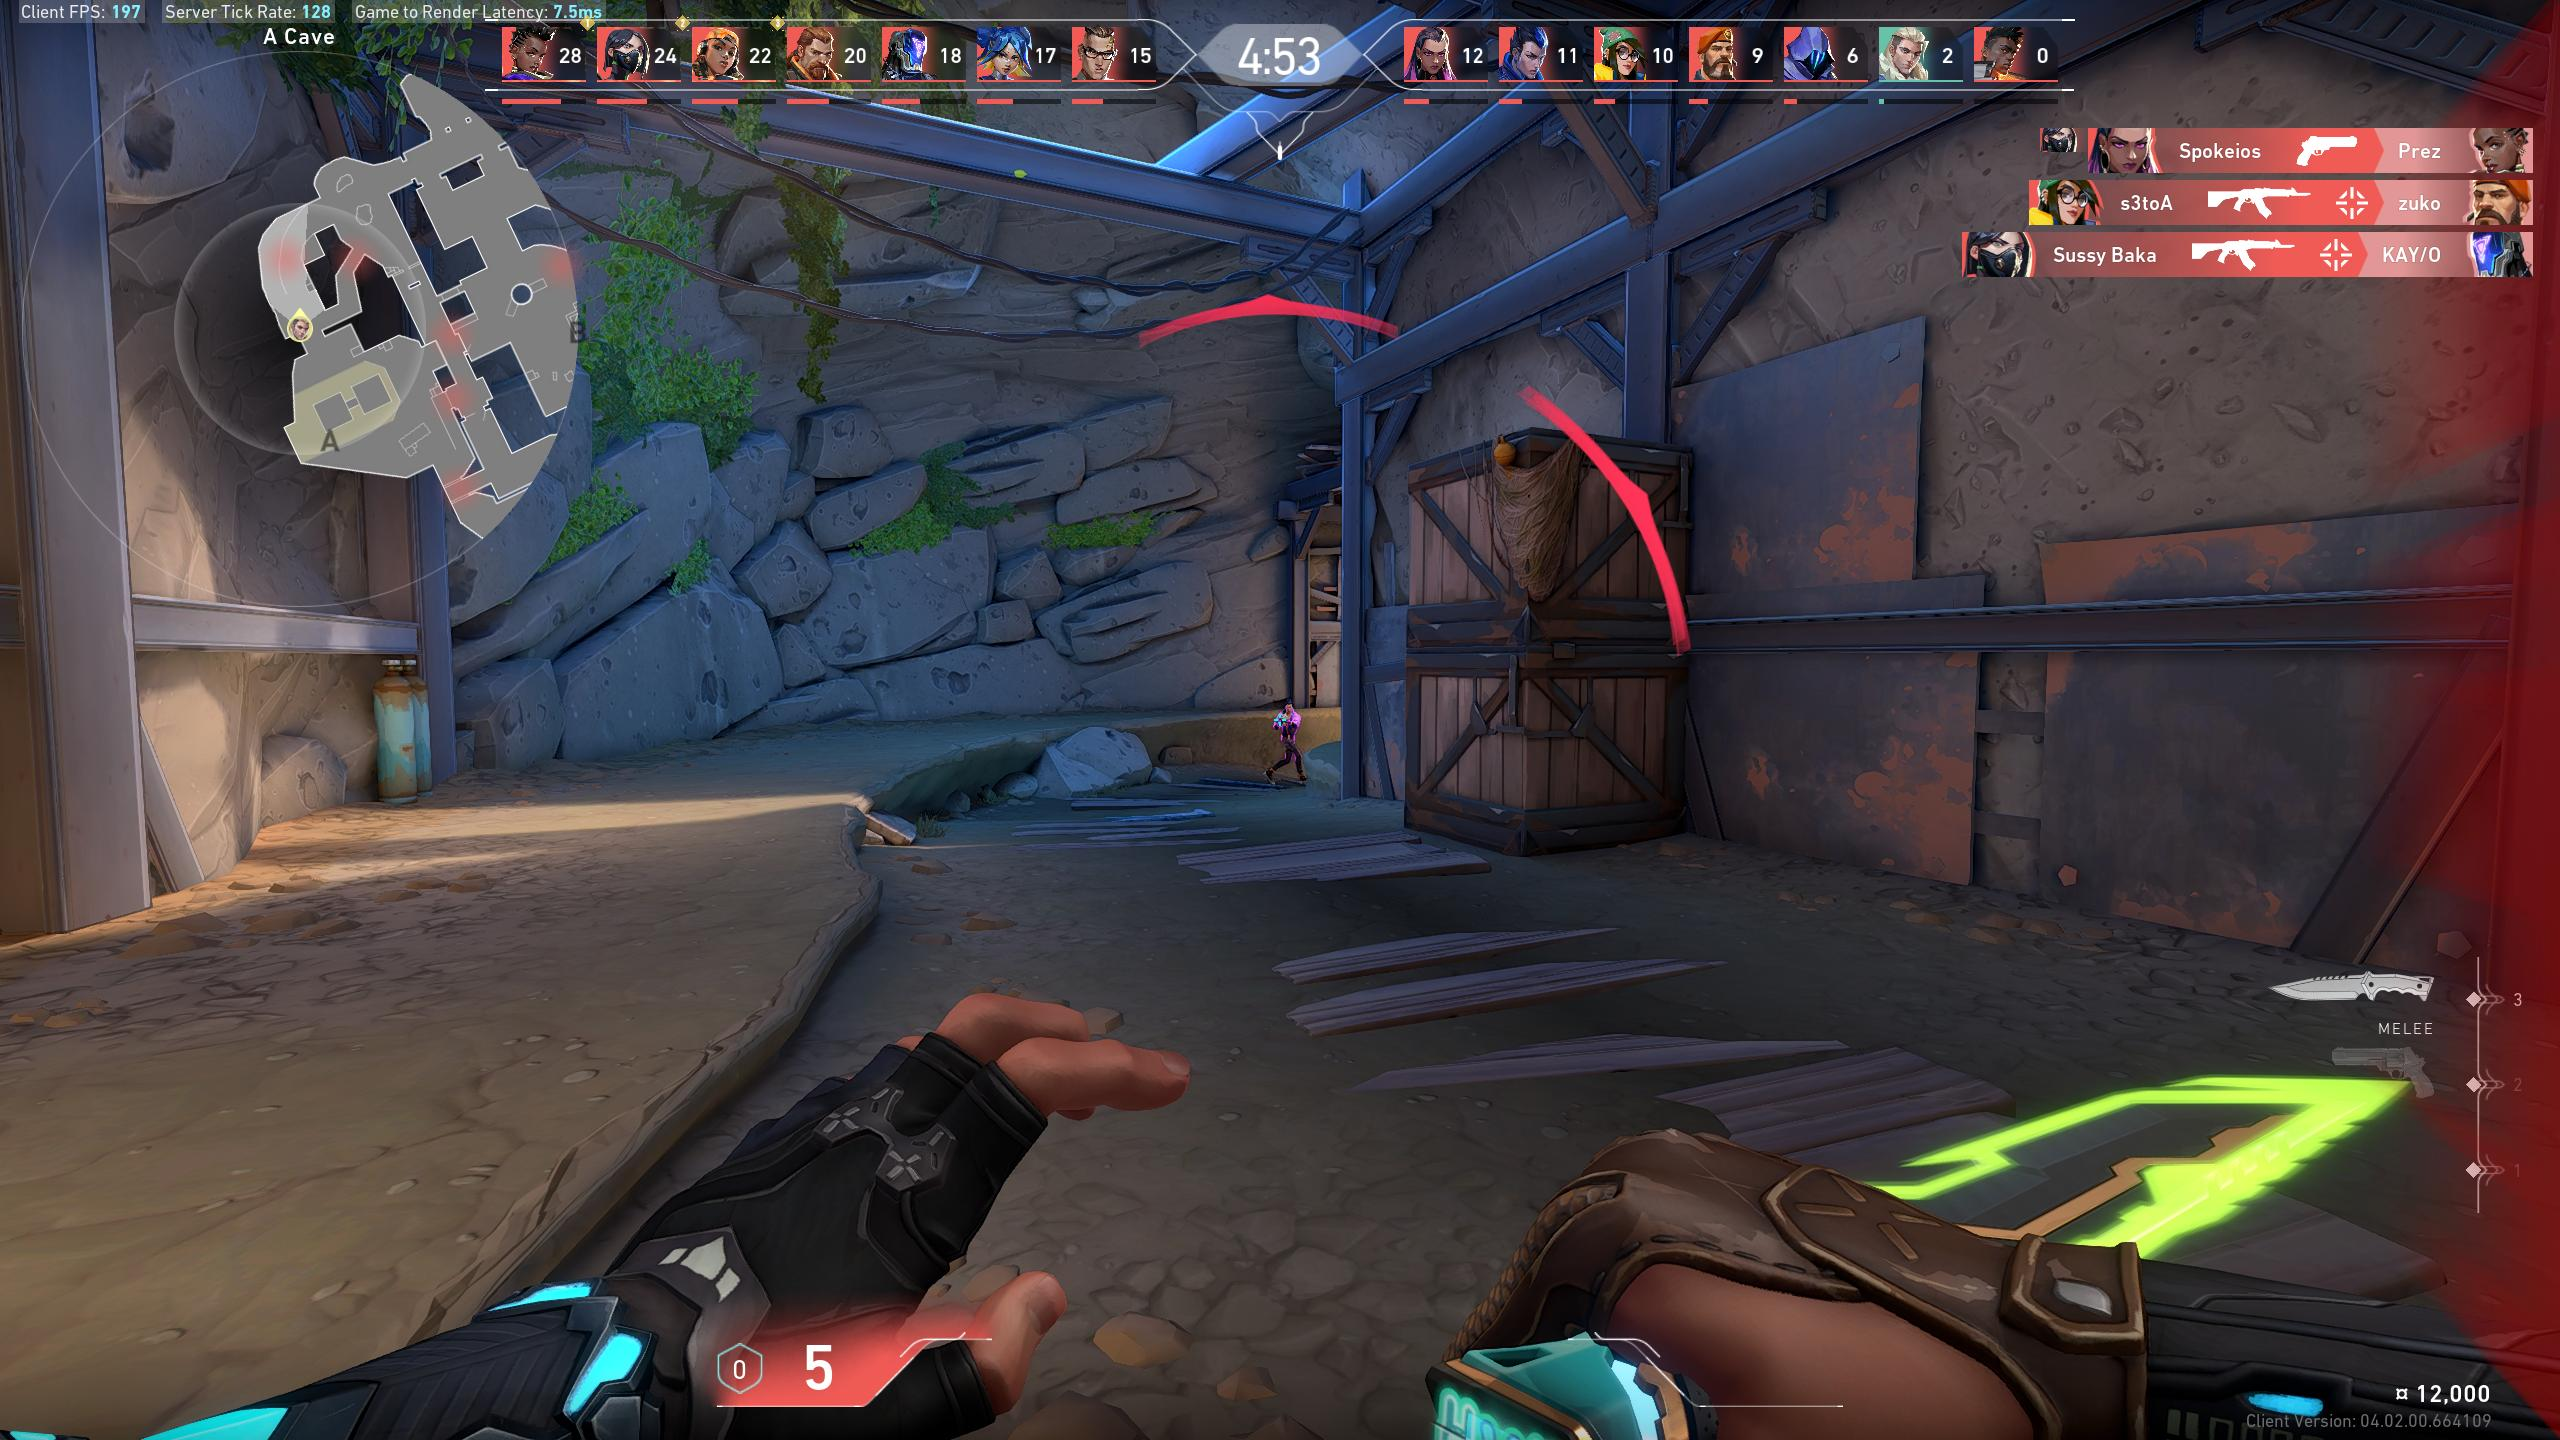enemyBody: (1284, 714, 1294, 737)
enemyHead: (1285, 703, 1292, 712)
